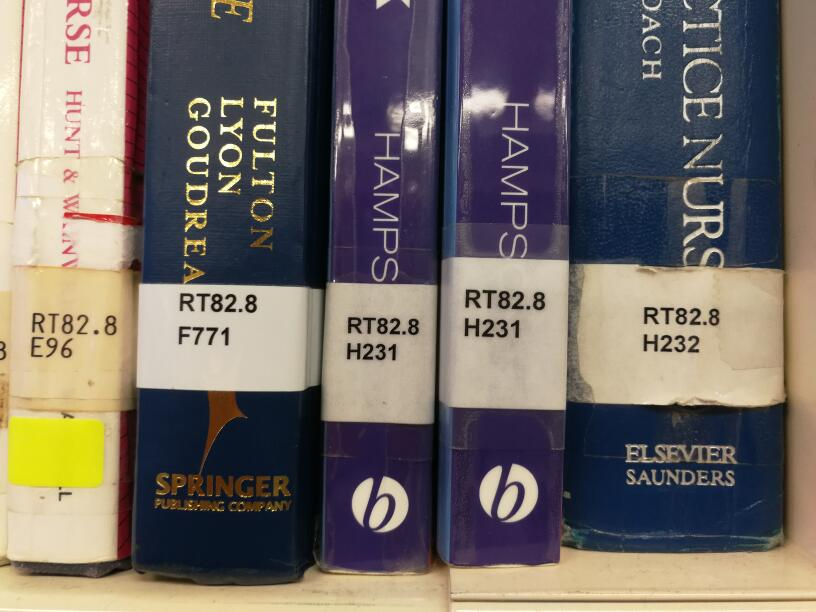booklabel: (173, 290, 261, 348), (26, 310, 119, 360), (461, 286, 547, 340), (640, 304, 721, 355), (343, 314, 421, 361)
